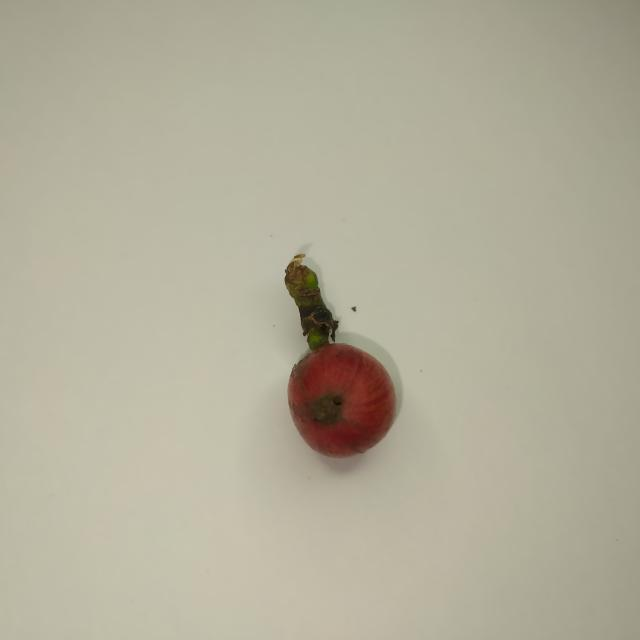Infectado: (288, 344, 395, 455)
